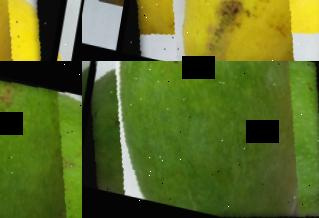Ripe: (120, 0, 319, 61), (0, 0, 62, 61)
Unripe: (82, 61, 319, 218), (0, 61, 82, 218)
